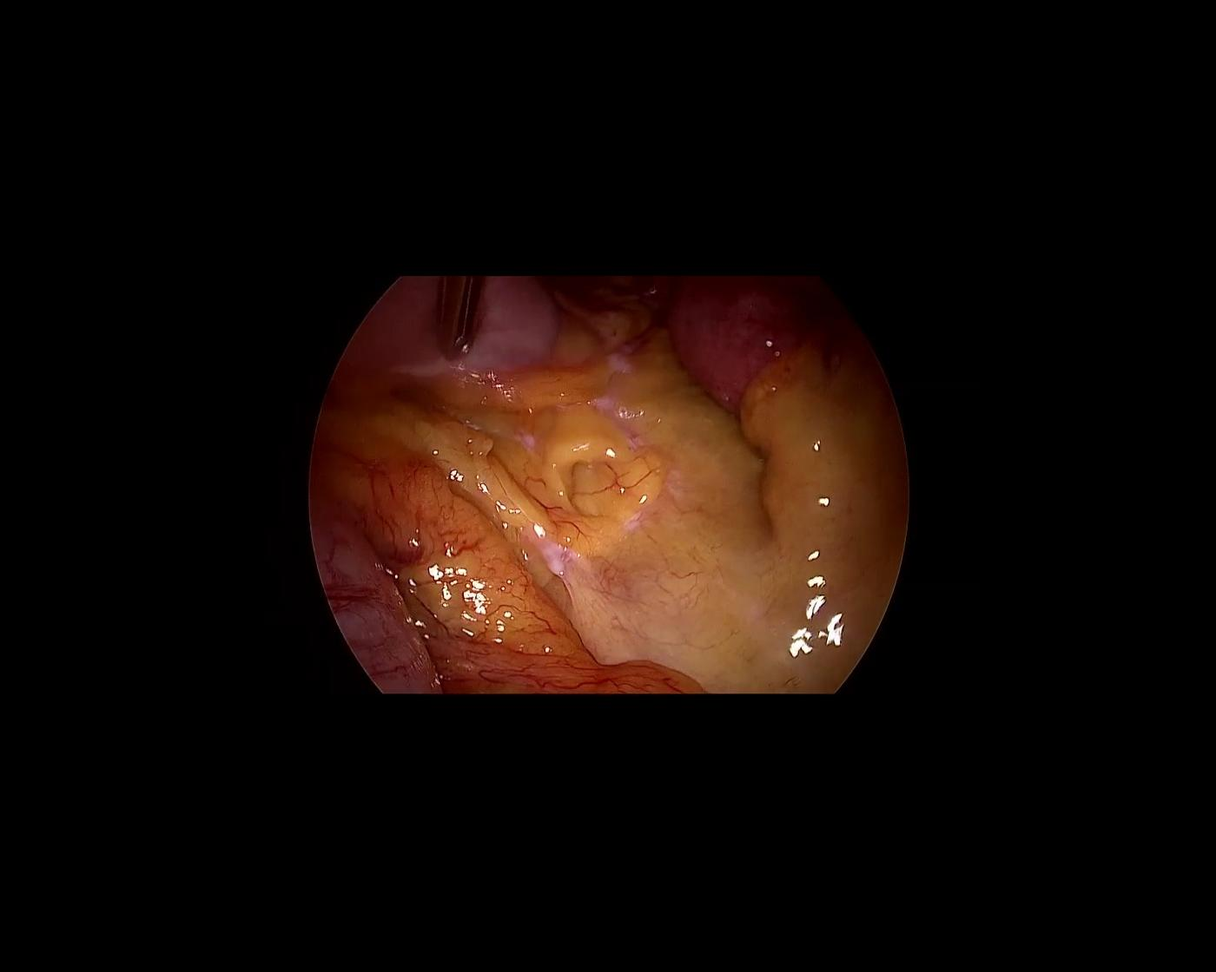Forceps: (433, 277, 490, 363)
